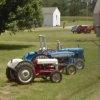Tractor: (18, 36, 90, 89)
